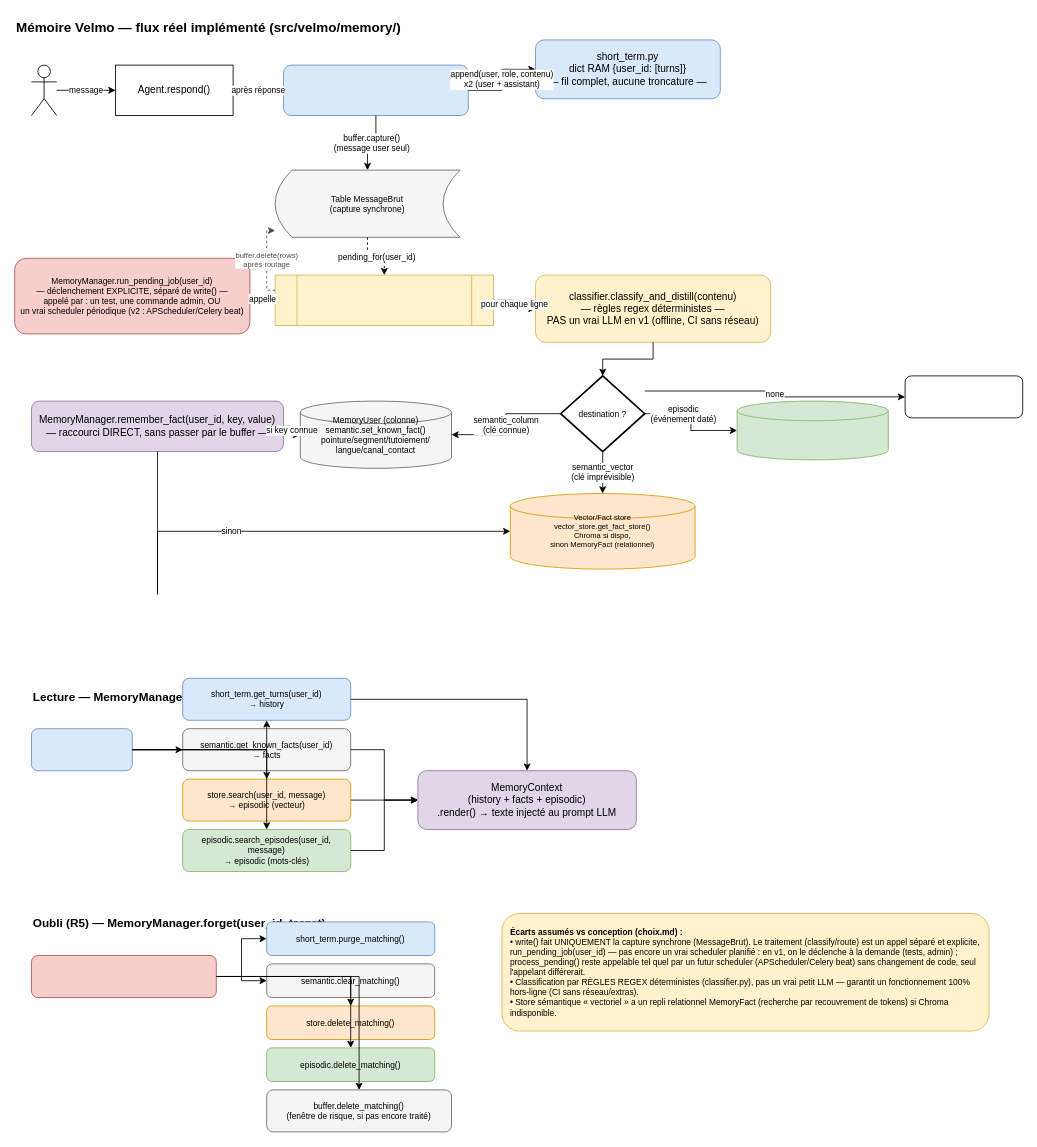
The diagram is 1037 pixels wide and 1147 high, and some of its shapes have lost their labels. The shapes that lost their labels are listed below. From the top down, each one's centre as x and y in pixels, then its label:
point (44, 90): Client
point (375, 90): MemoryManager.write(user_id, msg, réponse)
point (384, 300): processor.process_pending(user_id)
point (963, 396): rien à retenir (pas d'écriture)
point (812, 430): MemoryEpisode episodic.add_episode() (nettoyage léger, LIKE)
point (81, 749): read()
point (123, 976): forget() purge TOUS les emplacements
